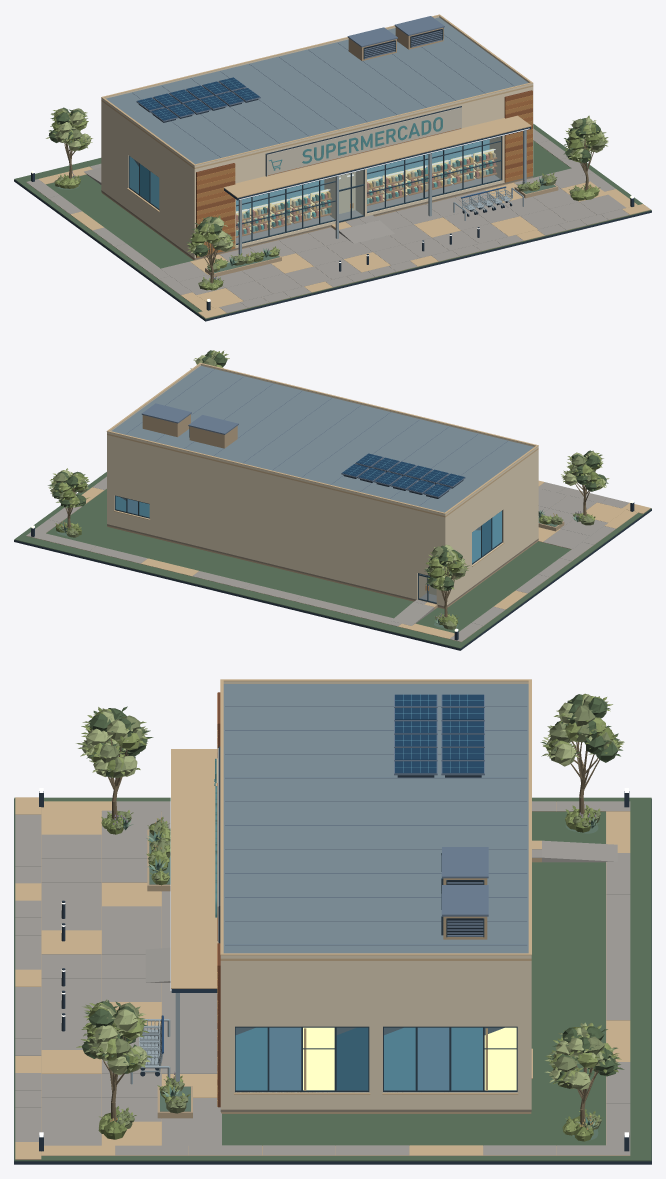
File: supermercado.fbx
3 views of the same model, one above another, from view 1: azimuth 30°, elevation 25°; view 2: azimuth 150°, elevation 25°; view 3: azimuth 270°, elevation 25° (orthographic). The views are drawn at different scales.
Parts seen in each view (by area): view 1: Marquesinas, Senderos y explanadas, Muros, Equipamiento de fachada, Cristales transparentes, Islas de plantacion, Remates minerales, Marcos y lamas, Senaletica, Piedra y bordillos, Setos y herbaceas, Arbol 219 (+4 smaller); view 2: Muros, Marquesinas, Islas de plantacion, Senderos y explanadas, Equipamiento de fachada, Piedra y bordillos, Arbol 216, Remates minerales, Arbol 218, Acristalamiento opaco, Arbol 217, Setos y herbaceas (+1 smaller); view 3: Marquesinas, Senderos y explanadas, Islas de plantacion, Muros, Acristalamiento opaco, Equipamiento de fachada, Setos y herbaceas, Marcos y lamas, Arbol 216, Arbol 219, Piedra y bordillos, Arbol 218 (+4 smaller).
Boxes of the visible parts, box(x1,y1,x2,y2) form: Marquesinas: box(101, 14, 533, 200); Senderos y explanadas: box(26, 128, 650, 318); Muros: box(101, 86, 533, 258); Equipamiento de fachada: box(136, 16, 512, 237); Cristales transparentes: box(236, 136, 500, 243); Islas de plantacion: box(14, 124, 651, 319); Remates minerales: box(101, 90, 533, 260); Marcos y lamas: box(128, 27, 529, 244); Senaletica: box(265, 106, 461, 176); Piedra y bordillos: box(14, 179, 651, 321); Setos y herbaceas: box(54, 171, 600, 290); Arbol 219: box(563, 115, 608, 190); Muros: box(107, 435, 538, 606); Marquesinas: box(106, 362, 538, 517); Islas de plantacion: box(14, 472, 651, 648); Senderos y explanadas: box(26, 476, 650, 642); Equipamiento de fachada: box(141, 403, 465, 498); Piedra y bordillos: box(14, 509, 651, 650); Arbol 216: box(424, 544, 469, 617); Remates minerales: box(107, 510, 538, 608); Arbol 218: box(561, 450, 609, 515); Acristalamiento opaco: box(115, 496, 501, 563); Arbol 217: box(48, 468, 89, 528); Setos y herbaceas: box(55, 510, 595, 629); Marquesinas: box(171, 679, 531, 992); Senderos y explanadas: box(15, 797, 630, 1159); Islas de plantacion: box(14, 797, 651, 1161); Muros: box(220, 961, 531, 1109); Acristalamiento opaco: box(235, 1027, 516, 1090); Equipamiento de fachada: box(139, 694, 488, 1076); Setos y herbaceas: box(98, 805, 602, 1141); Marcos y lamas: box(130, 754, 517, 1092); Arbol 216: box(540, 693, 624, 814); Arbol 219: box(76, 999, 152, 1121); Piedra y bordillos: box(14, 799, 651, 1164); Arbol 218: box(76, 706, 153, 819).
Size of the model in its own units: 35 by 8.37 by 26.
